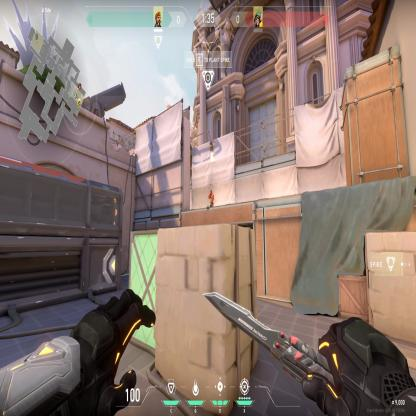enemy: (207, 188, 214, 207)
